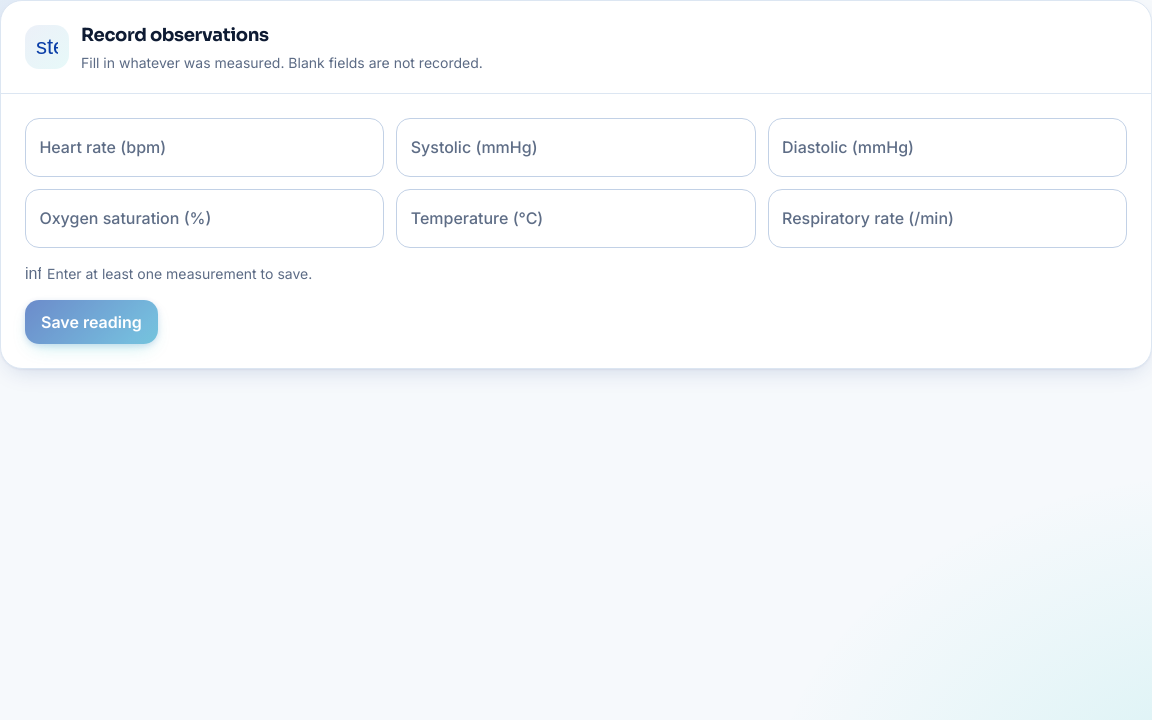
Scenario: recording observations › announces the alerts a reading raised
Type "150" into the number field labelled "Heart rate (bpm)" at (205, 147), box [25,118,384,177]
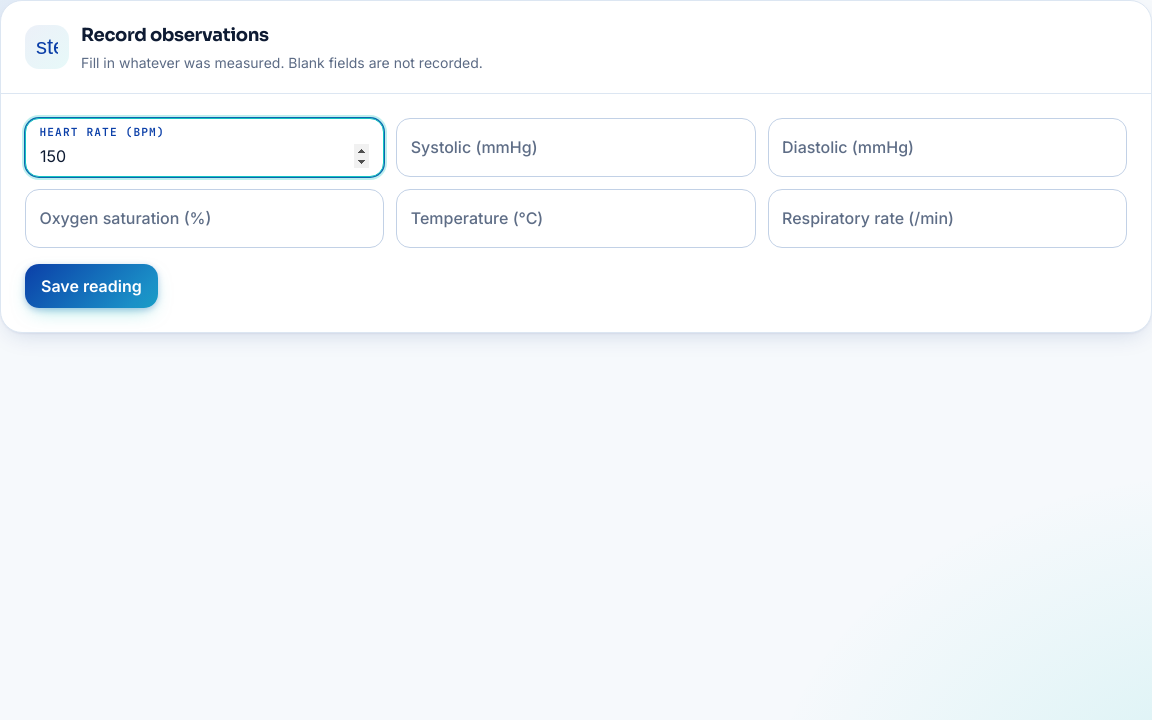
Click the button "Save reading" at (91, 286), box [25,264,158,308]
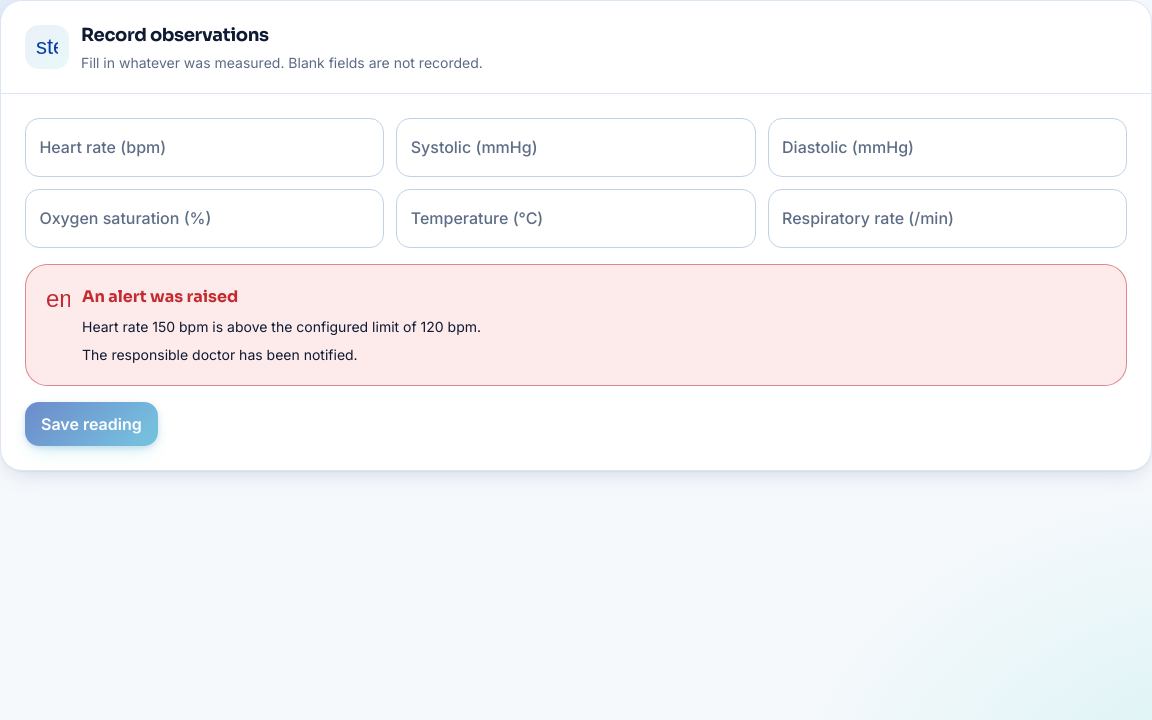
Check: the text "An alert was raised" is shown, box [82,286,238,307]
Check: the text "The responsible doctor has been notified." is shown, box [82,346,358,363]
